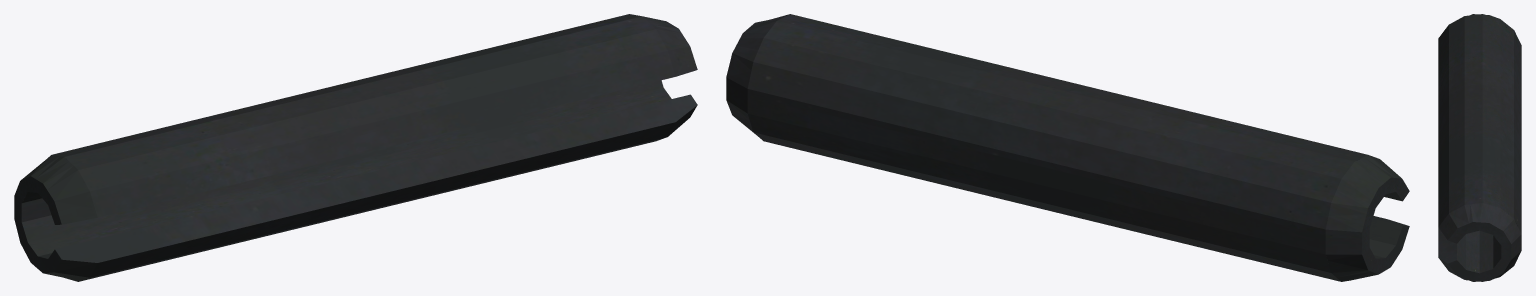
The model's file is Buttstock_Release_Lever_Spring_Pin.dae.
3 views of the same model, side by side, from view 1: azimuth 30°, elevation 25°; view 2: azimuth 150°, elevation 25°; view 3: azimuth 270°, elevation 25° (orthographic). The views are drawn at different scales.
Visible parts, largest first — view 1: Buttstock_Release_Lever_Spring_Pin; view 2: Buttstock_Release_Lever_Spring_Pin; view 3: Buttstock_Release_Lever_Spring_Pin.
Part boxes in pixels (<box>): Buttstock_Release_Lever_Spring_Pin: <box>14,14,697,281</box>; Buttstock_Release_Lever_Spring_Pin: <box>726,14,1409,281</box>; Buttstock_Release_Lever_Spring_Pin: <box>1438,14,1521,281</box>.
Bounding box in the file's own units: 0.0108 × 0.00184 × 0.00193.
1 material, 1 textured.
